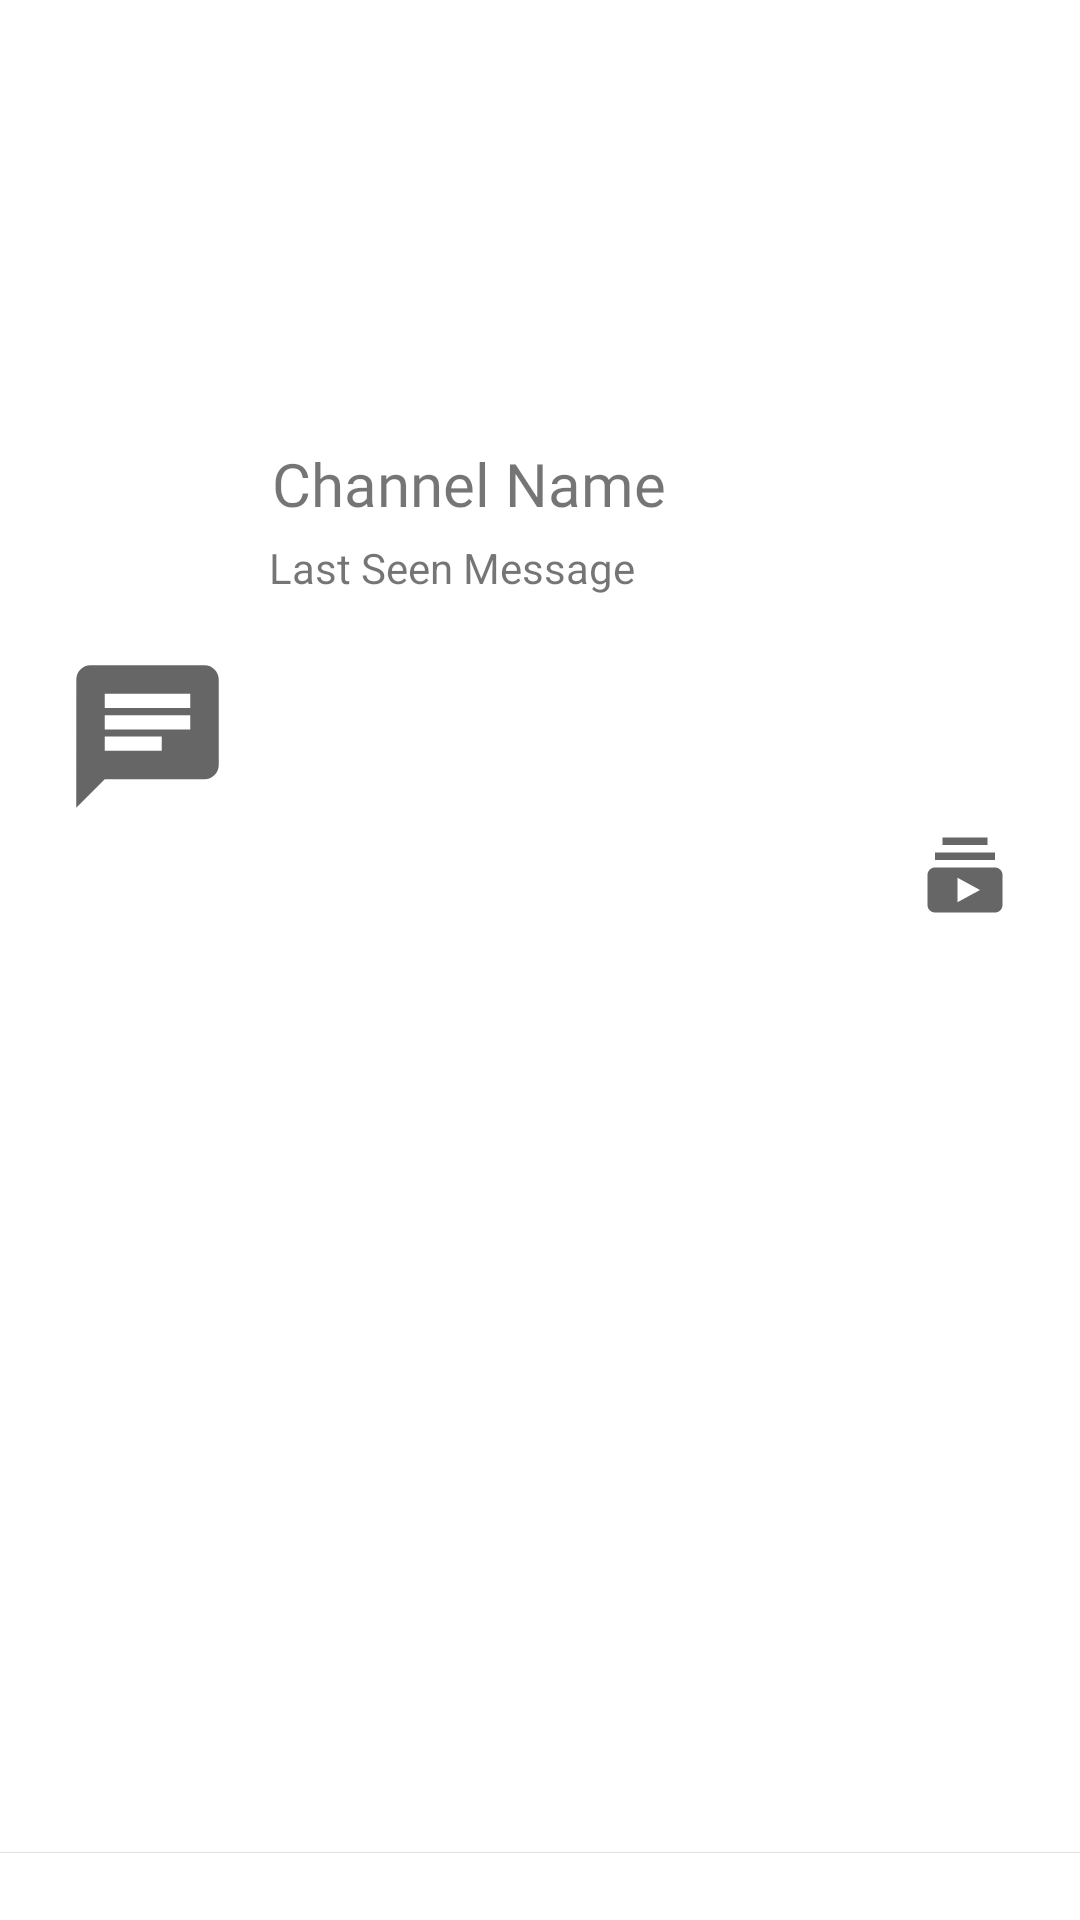

Named icons in this screenshot (1080px×1920px) and their bounding boxes, bbox=(x1, y1, x2, y2):
chat: bbox=(76, 665, 219, 808)
sub: bbox=(927, 837, 1003, 913)
